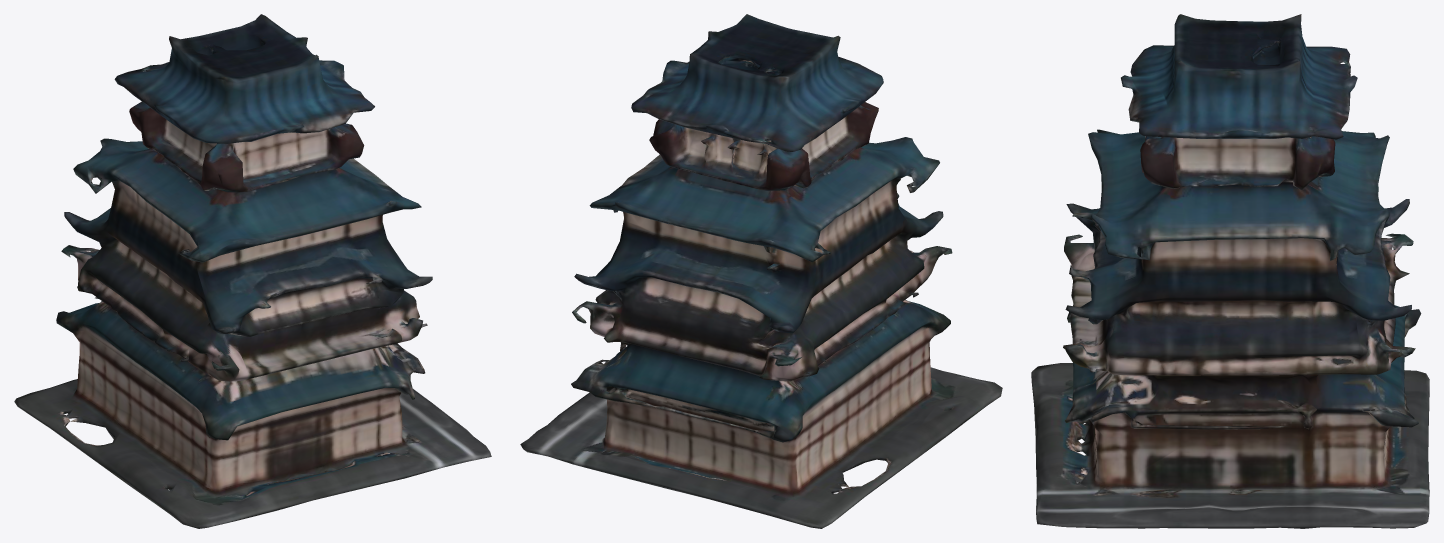
Rendered from Japanese_Building__.glb.
3 renders of one model, left to right at view 1: azimuth 30°, elevation 25°; view 2: azimuth 150°, elevation 25°; view 3: azimuth 270°, elevation 25°, orthographic. The views are drawn at different scales.
Visible parts, largest first — view 1: mesh; view 2: mesh; view 3: mesh.
Boxes of the visible parts, left/top/right/bottom form: mesh: left=14, top=14, right=491, bottom=528; mesh: left=520, top=14, right=1002, bottom=528; mesh: left=1031, top=14, right=1429, bottom=528.
Bounding box in the file's own units: 0.8432 × 1 × 0.8746.
Materials: 1 (1 with a texture image).
